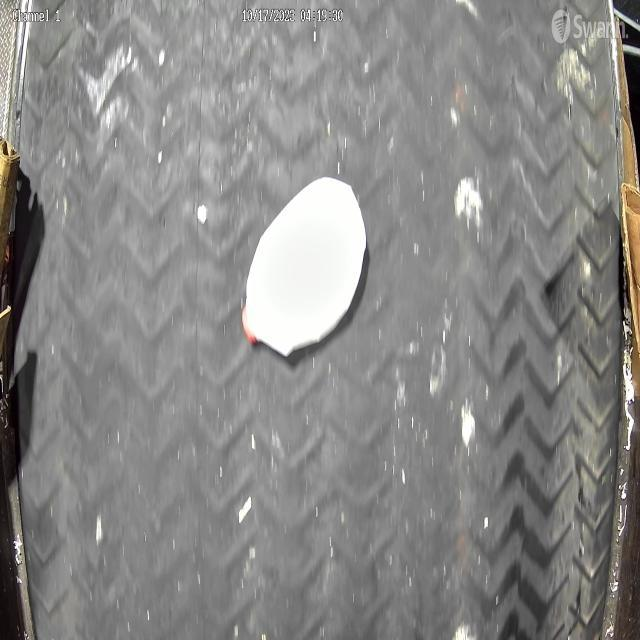milk_jug: (242, 178, 367, 356)
